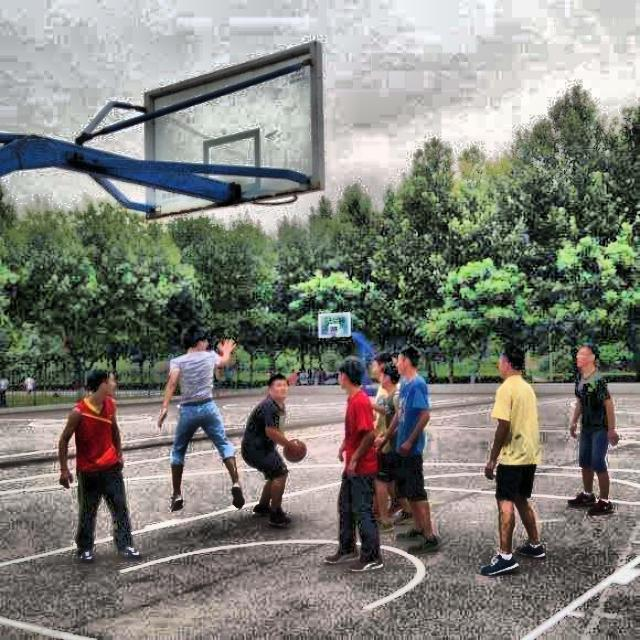board: (282, 439, 306, 461)
